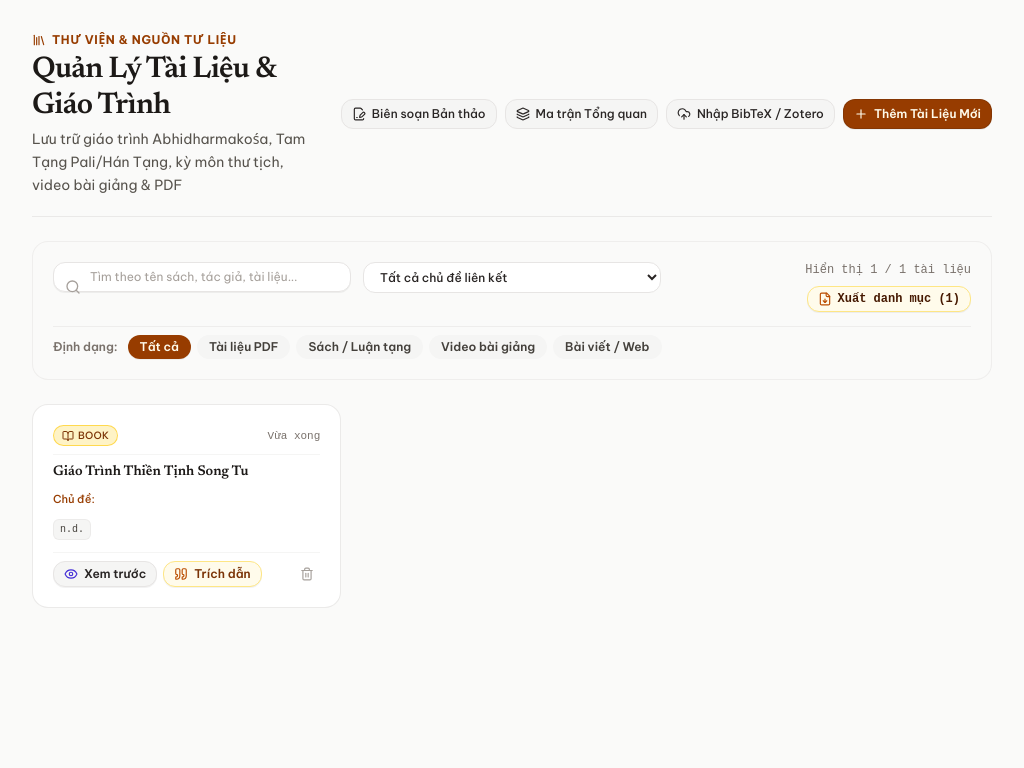
Test: EPUB URL Resolution & Path Taxonomy (Red Stage) › ResourcesManager Preview Integration › 9. ResourcesManager rewrites vault filePath to /api/obsidian/vault/attachment when opening preview
Note: Click "Xem trước" button on the book card
Click the button "Xem trước" at (105, 574), box [53,561,157,587]
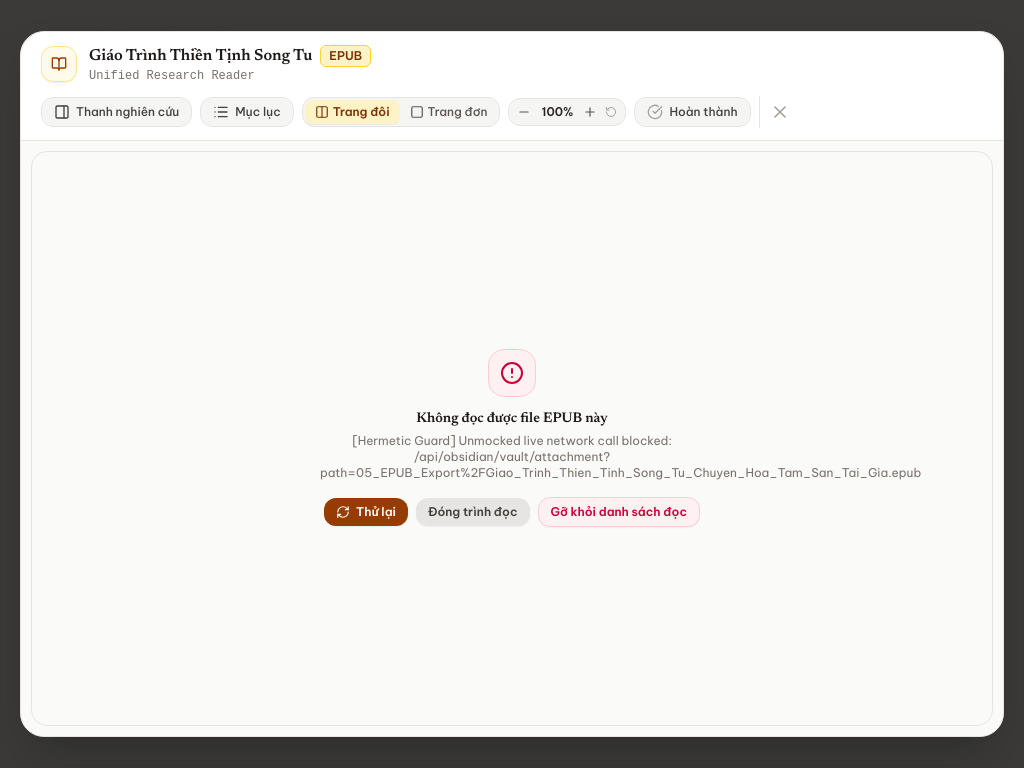
expect the text "Unified Research Reader" is shown: met, box [89,69,255,83]
